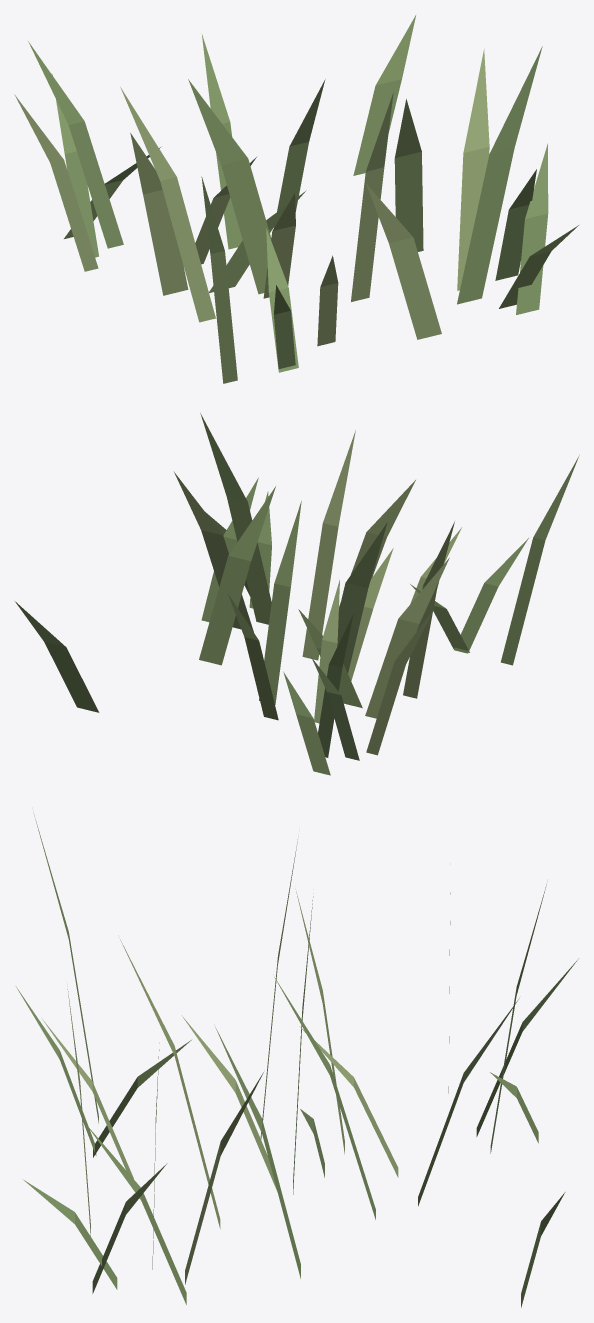
Rendered from grass.glb.
The picture shows the model from 3 angles, top to bottom: view 1: azimuth 30°, elevation 25°; view 2: azimuth 150°, elevation 25°; view 3: azimuth 270°, elevation 25°; orthographic projection. The views are drawn at different scales.
Visible parts, largest first — view 1: Grass_Leaf, Grass_LeafLight; view 2: Grass_Leaf, Grass_LeafLight; view 3: Grass_Leaf, Grass_LeafLight.
Part boxes in pixels (x1,y1,x2,y2): Grass_Leaf: (28, 15, 578, 383); Grass_LeafLight: (14, 49, 489, 346); Grass_Leaf: (15, 413, 579, 775); Grass_LeafLight: (174, 430, 461, 755); Grass_Leaf: (16, 813, 578, 1307); Grass_LeafLight: (42, 839, 450, 1284).
Bounding box in the file's own units: 0.5301 × 0.2725 × 0.492.
